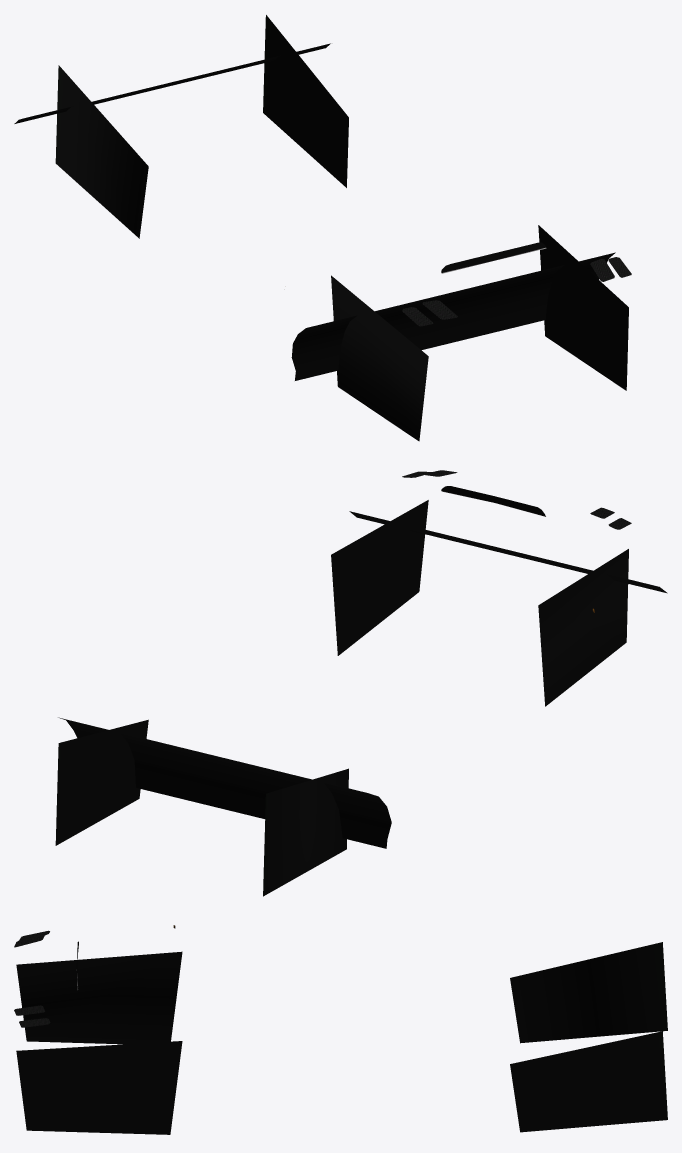
Rendered from extra2.obj.
The picture shows the model from 3 angles, top to bottom: view 1: azimuth 30°, elevation 25°; view 2: azimuth 150°, elevation 25°; view 3: azimuth 270°, elevation 25°; orthographic projection. The views are drawn at different scales.
Parts seen in each view (by area): view 1: Extra21; view 2: Extra21; view 3: Extra21.
Part boxes in pixels (x1=…): Extra21: x1=14, y1=15, x2=631, y2=441; Extra21: x1=55, y1=470, x2=667, y2=896; Extra21: x1=14, y1=925, x2=667, y2=1134.
Size of the model in its own units: 6.7 by 3 by 13.72.
Materials: 1 (1 with a texture image).
